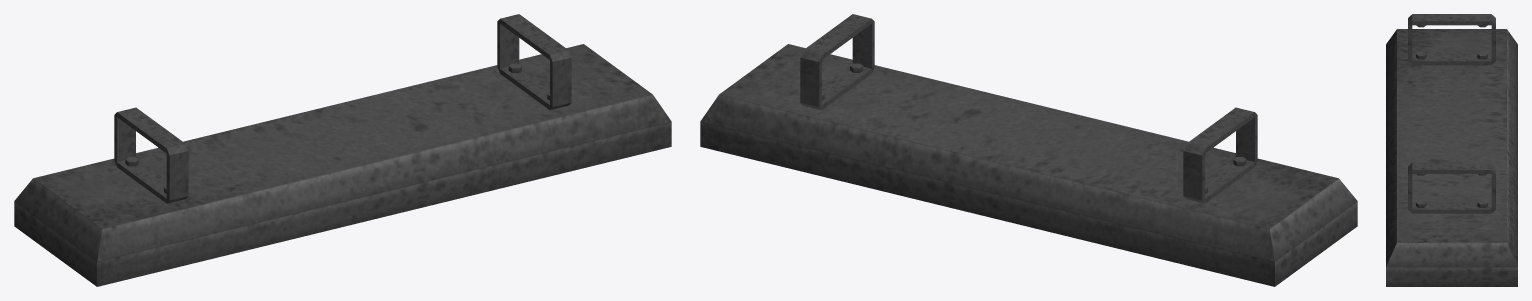
File: ceiling_lamp_4_a_on.dae
3 views of the same model, side by side, from view 1: azimuth 30°, elevation 25°; view 2: azimuth 150°, elevation 25°; view 3: azimuth 270°, elevation 25° (orthographic). The views are drawn at different scales.
Parts seen in each view (by area): view 1: ceiling_lamp_4_a_on; view 2: ceiling_lamp_4_a_on; view 3: ceiling_lamp_4_a_on.
Part boxes in pixels (x1,y1,x2,y2): ceiling_lamp_4_a_on: (14,14,671,286); ceiling_lamp_4_a_on: (700,14,1357,286); ceiling_lamp_4_a_on: (1386,14,1517,286).
Bounding box in the file's own units: 1.2 × 0.3 × 0.21.
Materials: 1 (1 with a texture image).
